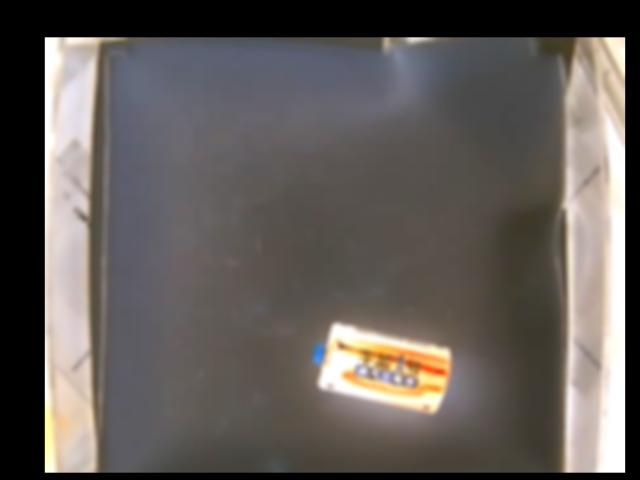Battery: (308, 322, 452, 414)
